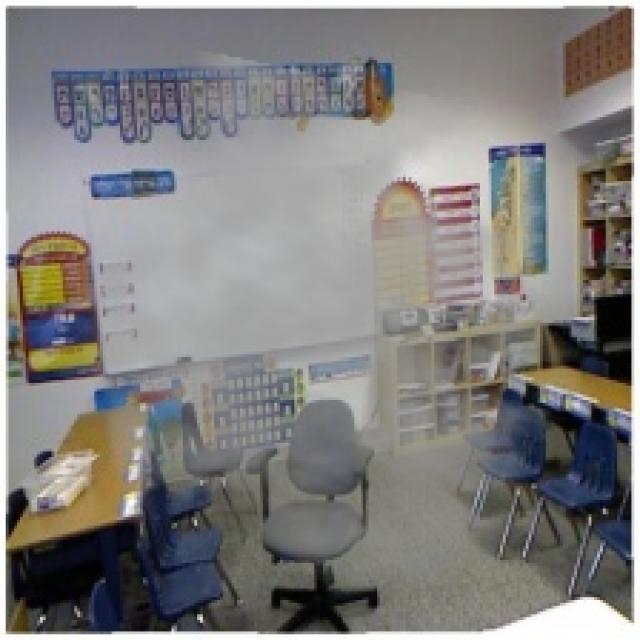Smoke: (49, 48, 606, 598)
